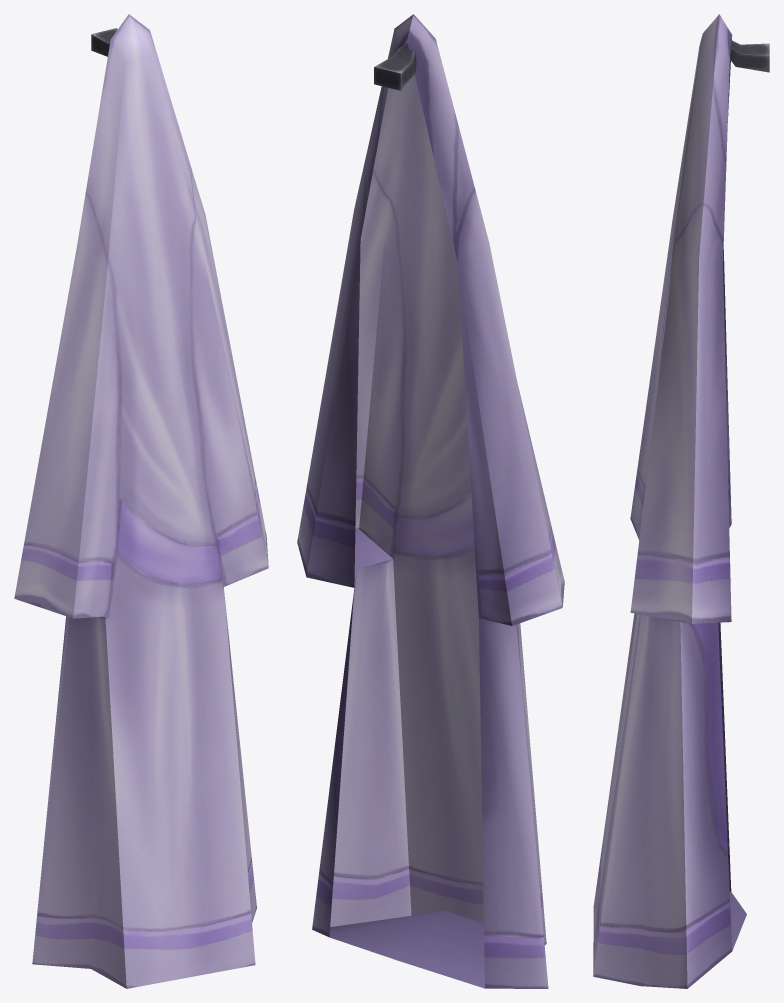
File: albornoz3.fbx
3 views of the same model, side by side, from view 1: azimuth 30°, elevation 25°; view 2: azimuth 150°, elevation 25°; view 3: azimuth 270°, elevation 25° (orthographic). The views are drawn at different scales.
Parts seen in each view (by area): view 1: albornoz; view 2: albornoz; view 3: albornoz.
Part boxes in pixels (x1,y1,x2,y2): albornoz: (14, 14, 268, 988); albornoz: (297, 14, 564, 988); albornoz: (593, 14, 769, 988).
Size of the model in its own units: 37.62 by 132 by 22.54.
Materials: 1 (1 with a texture image).
